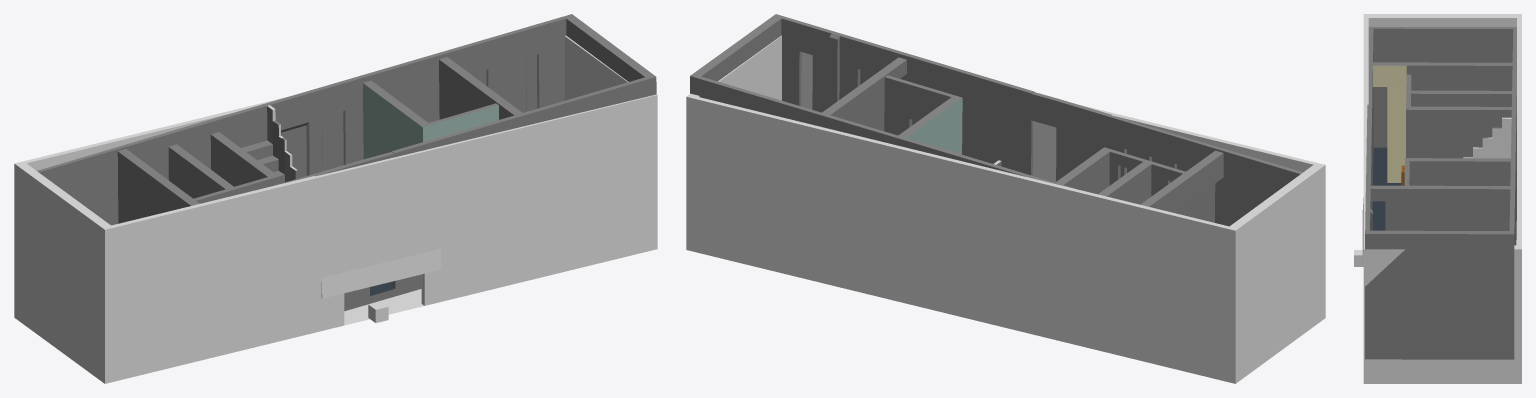
The model's file is Edificio_V_Medidas (se elimina este cuando ya alex lo tenga).fbx.
The picture shows the model from 3 angles, left to right: view 1: azimuth 30°, elevation 25°; view 2: azimuth 150°, elevation 25°; view 3: azimuth 270°, elevation 25°; orthographic projection. The views are drawn at different scales.
Visible parts, largest first — view 1: ELBUENO, Plane; view 2: ELBUENO, Plane; view 3: Plane, ELBUENO, Cube.001.
Boxes of the visible parts, bbox=[...] form: ELBUENO: bbox=[14, 35, 657, 383]; Plane: bbox=[37, 14, 656, 311]; ELBUENO: bbox=[686, 35, 1325, 383]; Plane: bbox=[690, 14, 1303, 226]; Plane: bbox=[1365, 27, 1516, 359]; ELBUENO: bbox=[1362, 14, 1521, 383]; Cube.001: bbox=[1354, 250, 1363, 266].
Size of the model in its own units: 8697 by 2576 by 2612.
